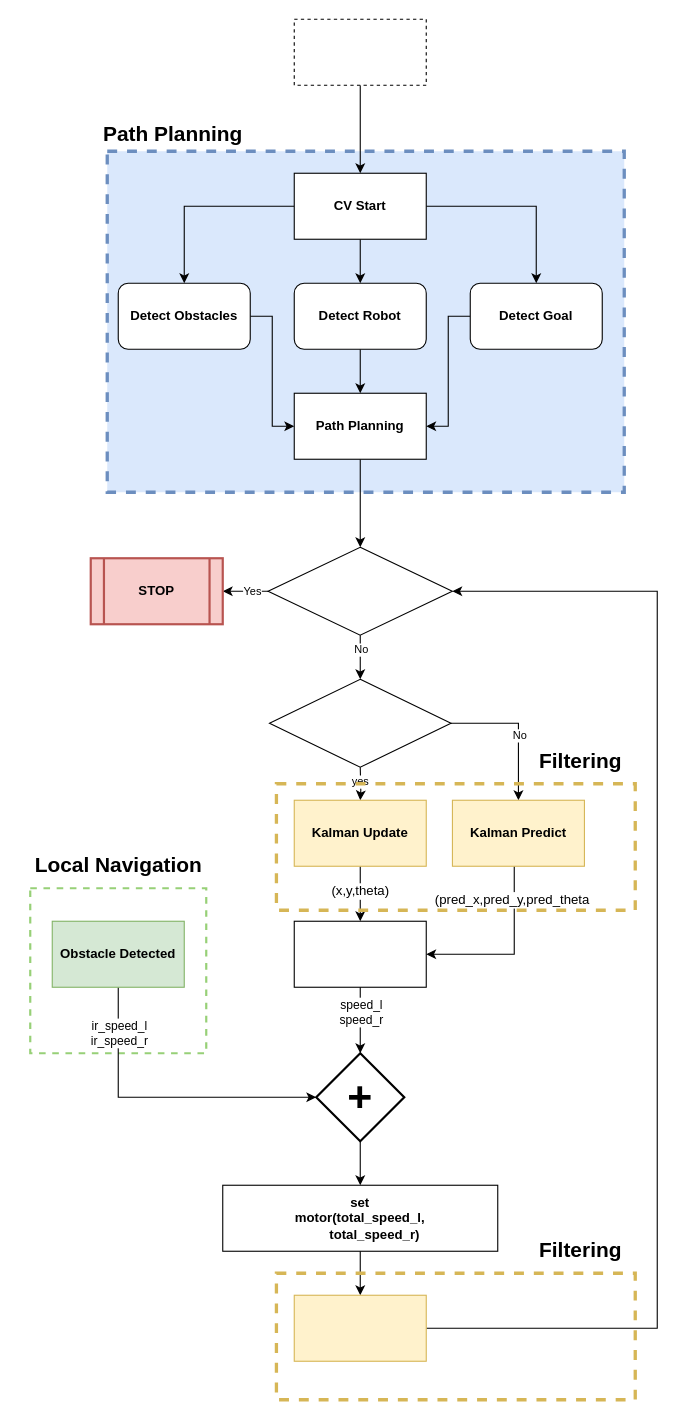
The diagram is 685 pixels wide and 1420 high, and some of its shapes have lost their labels. The shapes that lost their labels are listed below. From the top down, each one's box as (x1, y1, x2, y2) in pixels, then its label:
(293, 18, 426, 85): Start
(267, 546, 452, 635): dist < MIN_DIST ?
(268, 678, 451, 767): robot detected?
(293, 920, 426, 987): Motion Control
(293, 1294, 426, 1361): Update Speed Command Kalman
